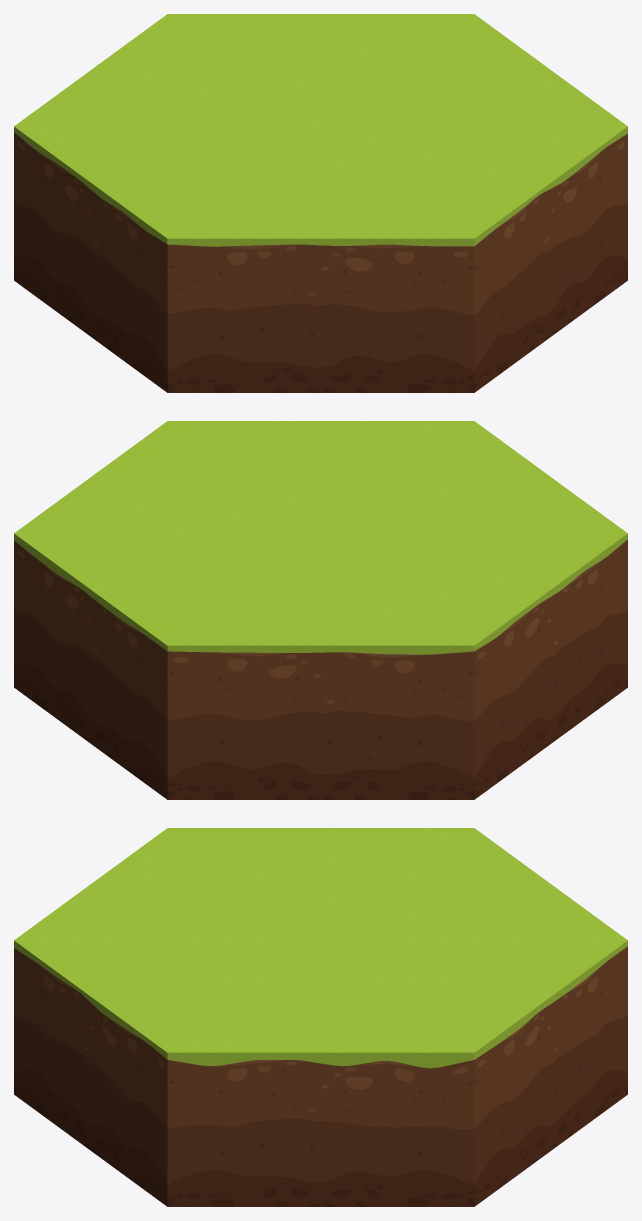
The model's file is HexaGround.fbx.
The picture shows the model from 3 angles, top to bottom: view 1: azimuth 30°, elevation 25°; view 2: azimuth 150°, elevation 25°; view 3: azimuth 270°, elevation 25°; orthographic projection.
Visible parts, largest first — view 1: HexaGround; view 2: HexaGround; view 3: HexaGround.
Boxes of the visible parts, <box> form: HexaGround: <box>14,14,627,392</box>; HexaGround: <box>14,421,627,799</box>; HexaGround: <box>14,828,627,1206</box>.
Size of the model in its own units: 34.64 by 11.08 by 40.
